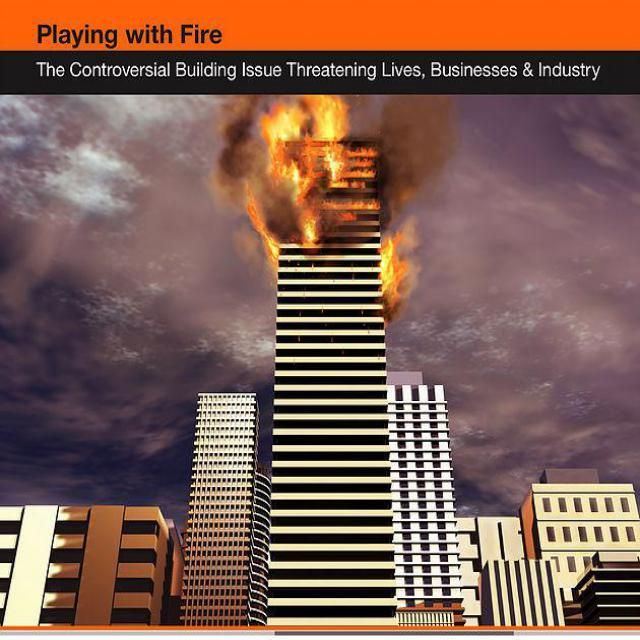Fire: (252, 100, 436, 326)
